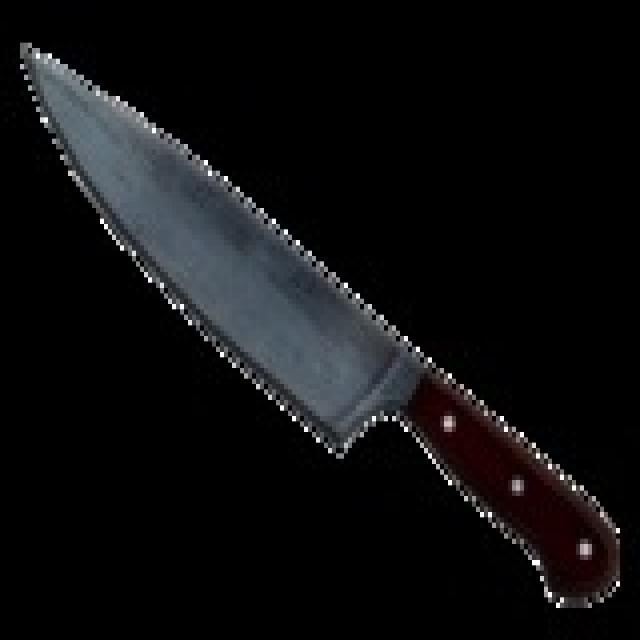Knife: (14, 29, 622, 614)
